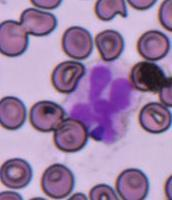N: (64, 60, 140, 141)
